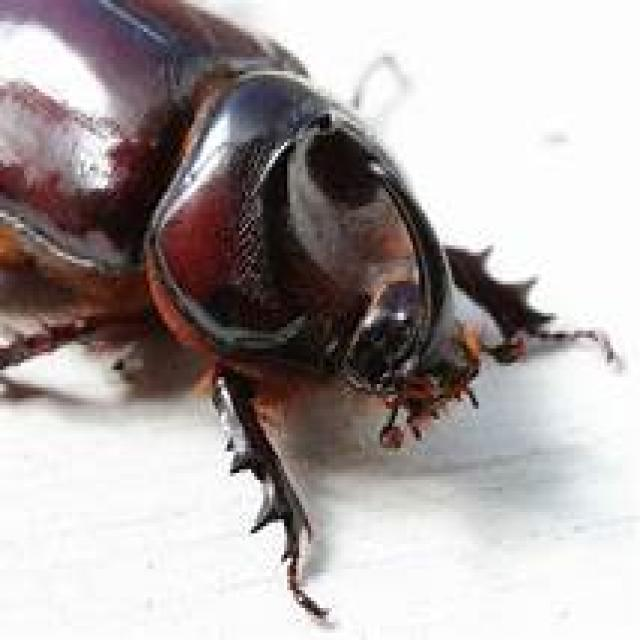Rhino-beetle: (0, 0, 568, 590)
